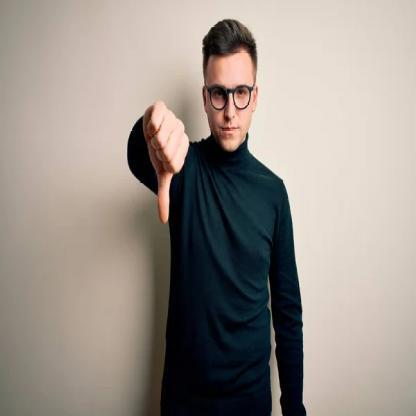thumb_down: (136, 98, 190, 226)
